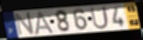4: (111, 5, 126, 28)
6: (72, 8, 89, 32)
8: (56, 9, 71, 33)
A: (33, 10, 55, 36)
N: (14, 12, 35, 37)
U: (89, 5, 110, 31)
